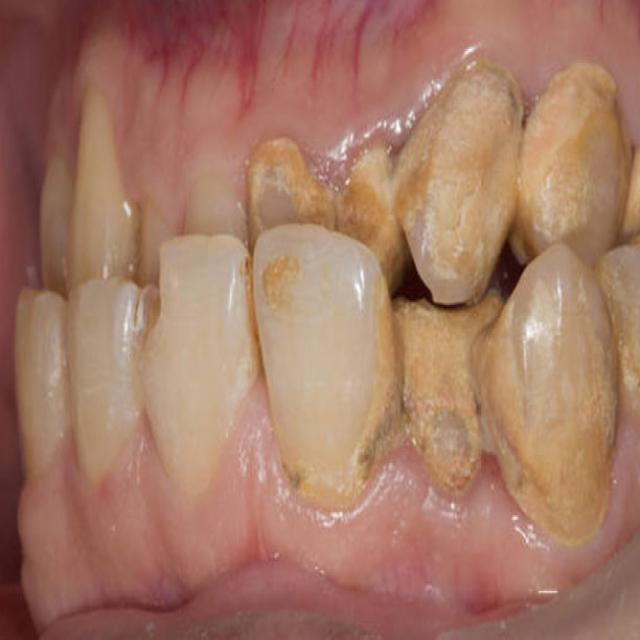caries: (130, 241, 172, 336)
